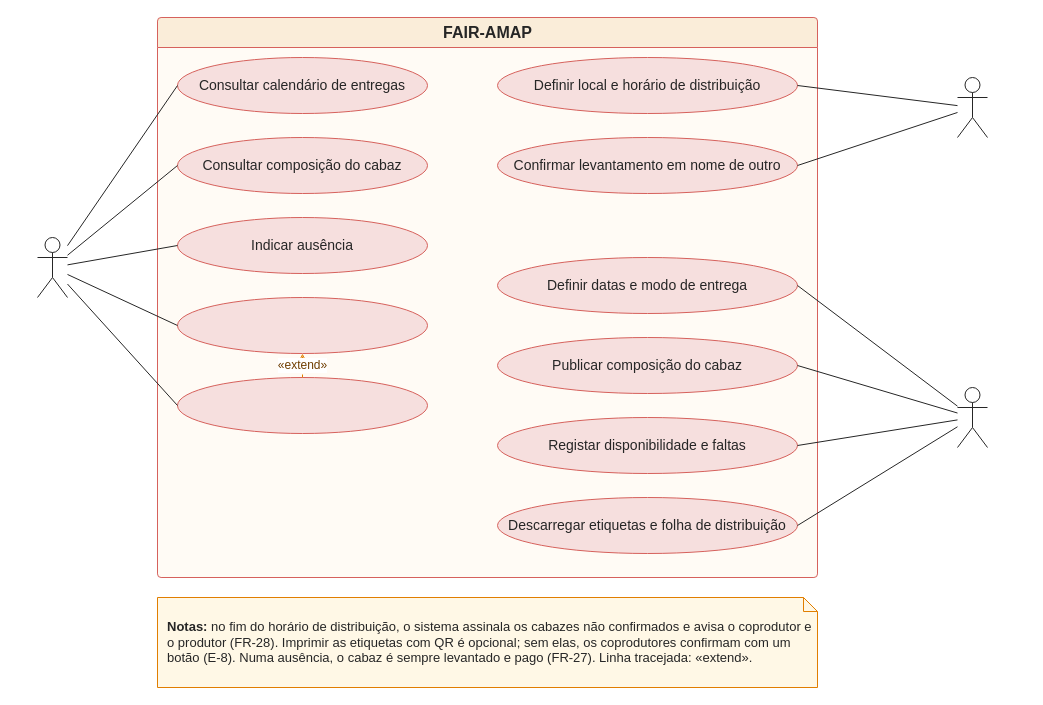
Some shapes in this 1043 by 705 pixel diagram are drawn without their labels. The centre of each missing label's shape, as x and y in pixels:
"Confirmar levantamento" belongs at (x=302, y=325).
"Coprodutor" belongs at (x=52, y=267).
"Gestão da AMAP" belongs at (x=972, y=107).
"Ler QR code do saco" belongs at (x=302, y=405).
"Produtor" belongs at (x=972, y=417).
